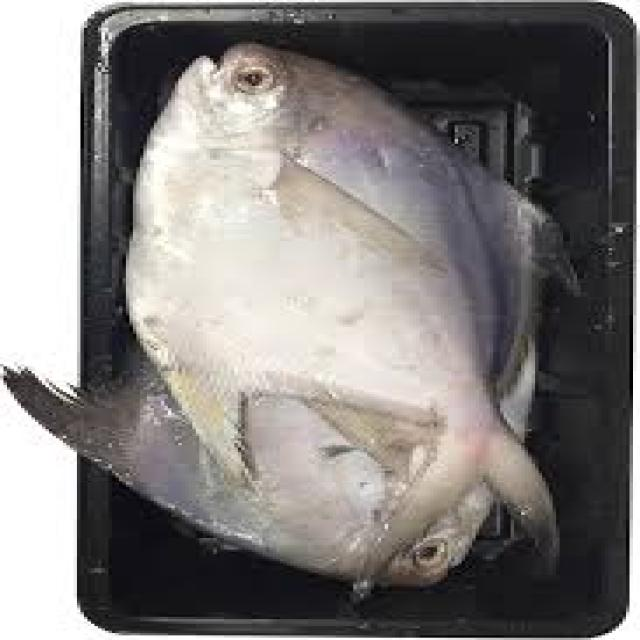pomfred: (129, 45, 582, 595)
